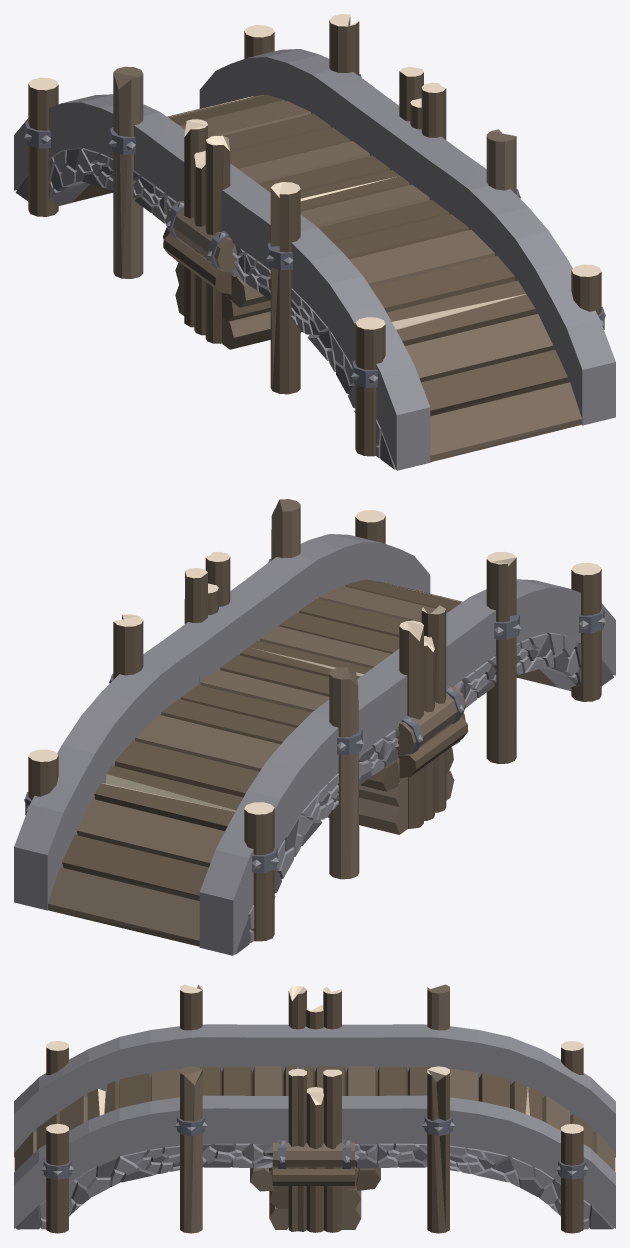
The model's file is bridge_full.fbx.
3 renders of one model, top to bottom at view 1: azimuth 30°, elevation 25°; view 2: azimuth 150°, elevation 25°; view 3: azimuth 270°, elevation 25°, orthographic. The views are drawn at different scales.
Visible parts, largest first — view 1: bridge_corner2, bridge_corner1, bridhe_main; view 2: bridge_corner1, bridge_corner2, bridhe_main; view 3: bridge_corner2, bridge_corner1, bridhe_main.
Part boxes in pixels (x1,y1,x2,y2): bridge_corner2: [245, 129, 615, 470]; bridge_corner1: [14, 14, 384, 278]; bridhe_main: [163, 66, 463, 349]; bridge_corner1: [14, 614, 384, 955]; bridge_corner2: [245, 499, 615, 763]; bridhe_main: [166, 551, 468, 834]; bridge_corner2: [14, 984, 252, 1233]; bridge_corner1: [377, 984, 615, 1233]; bridhe_main: [250, 986, 380, 1232].
Size of the model in its own units: 574 by 427 by 1479.
